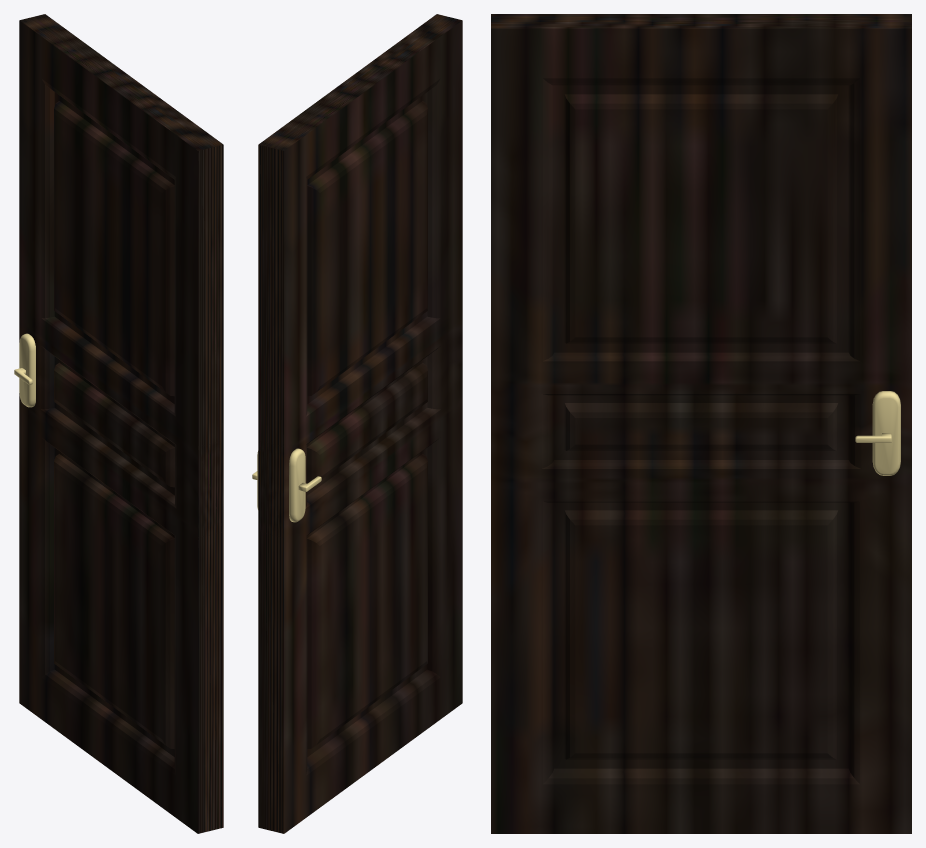
File: door.fbx
3 renders of one model, left to right at view 1: azimuth 30°, elevation 25°; view 2: azimuth 150°, elevation 25°; view 3: azimuth 270°, elevation 25°, orthographic. The views are drawn at different scales.
Visible parts, largest first — view 1: Cube; view 2: Cube; view 3: Cube.
Part boxes in pixels (box(x1,y1,x2,y2)): Cube: box(14, 14, 223, 833); Cube: box(252, 14, 462, 833); Cube: box(491, 14, 911, 833).
Bounding box in the file's own units: 22.33 × 266 × 126.
2 materials, 1 textured.
